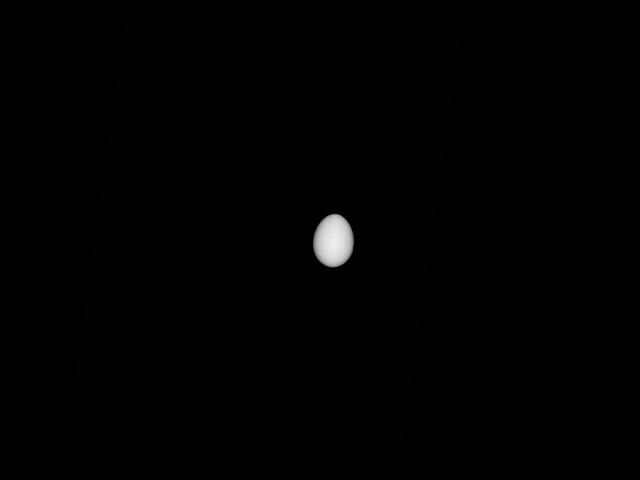egg: (309, 211, 357, 269)
